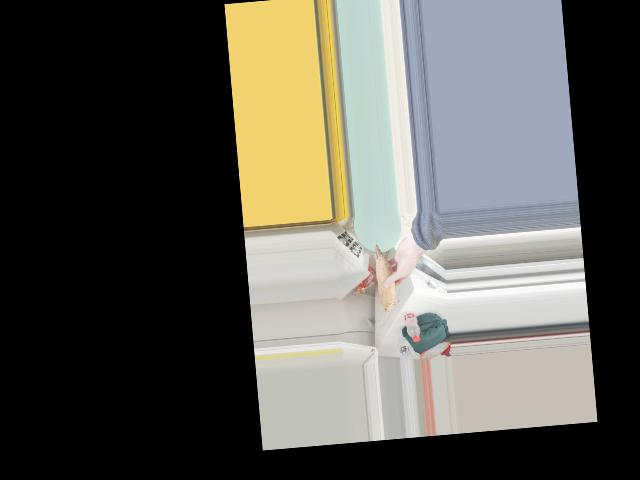sweet_potato: (369, 243, 401, 315)
